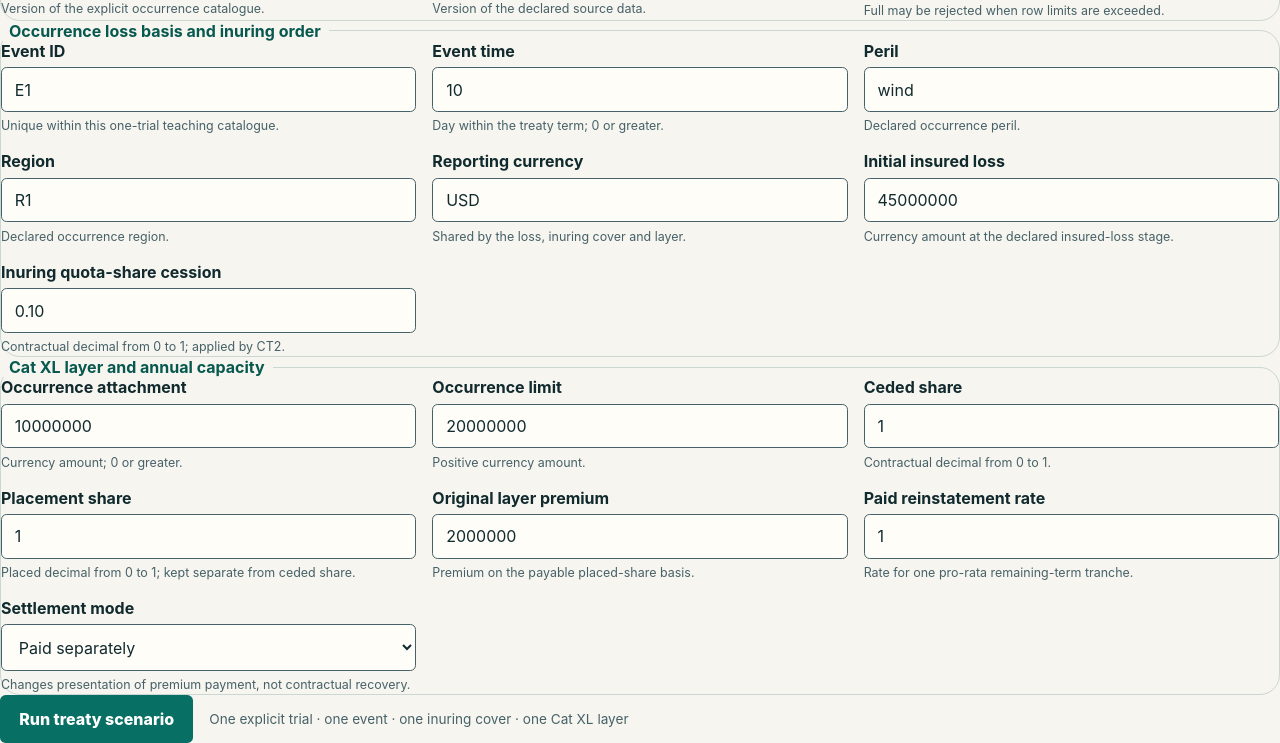
it: safe error-state presentation › gives explicit summary guidance for 413 without automatic retry
(page scrolled)
Click the button "Run treaty scenario" at (97, 719), box 0,695 -> 193,742
(page scrolled)
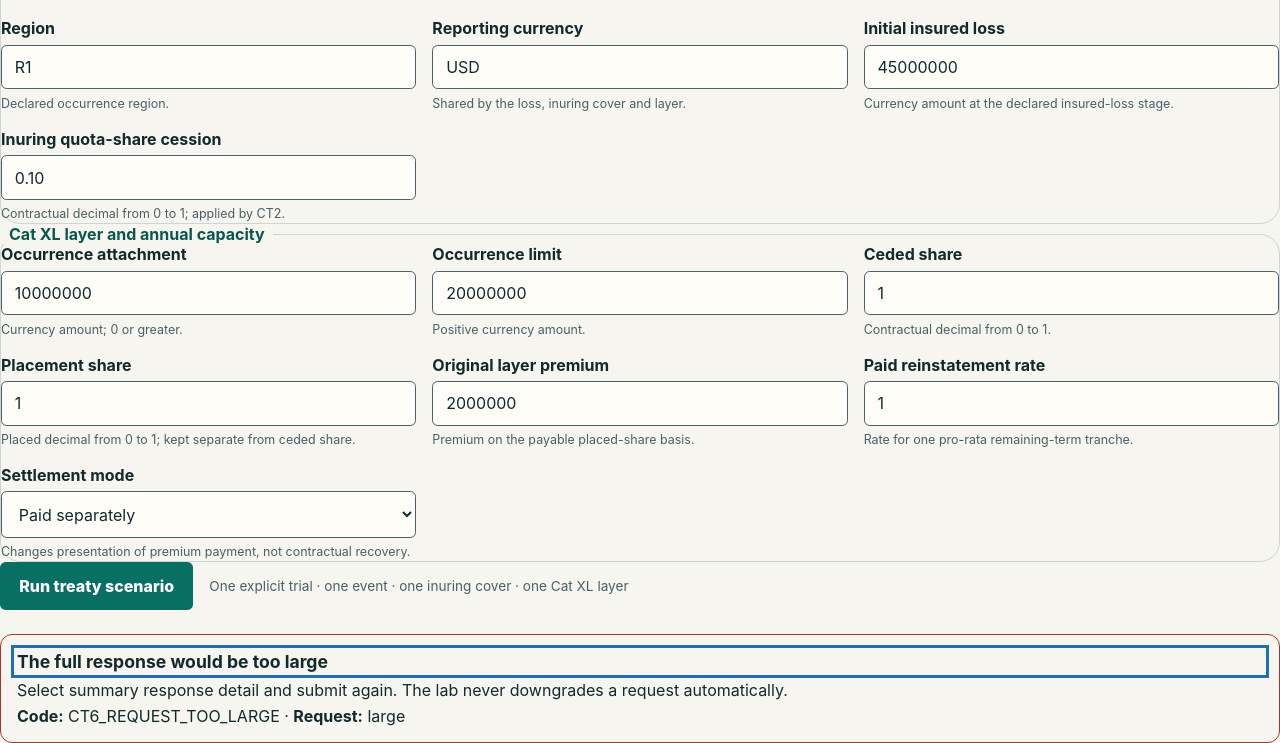
Result: the text "Select summary response detail" is shown at 17,680 -> 788,700
